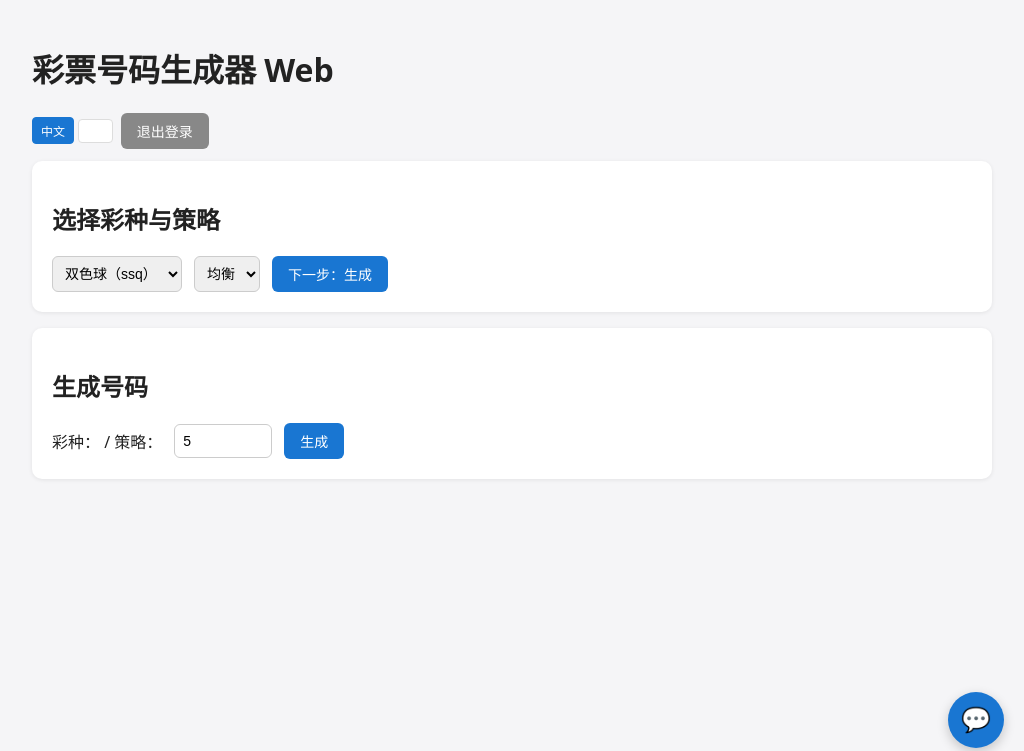
Test case: App 外壳 › 选择彩种后切到各 Tab 均正确挂载对应视图
Click the button "下一步：生成" at (330, 274), box x1=272 y1=256 x2=388 y2=292
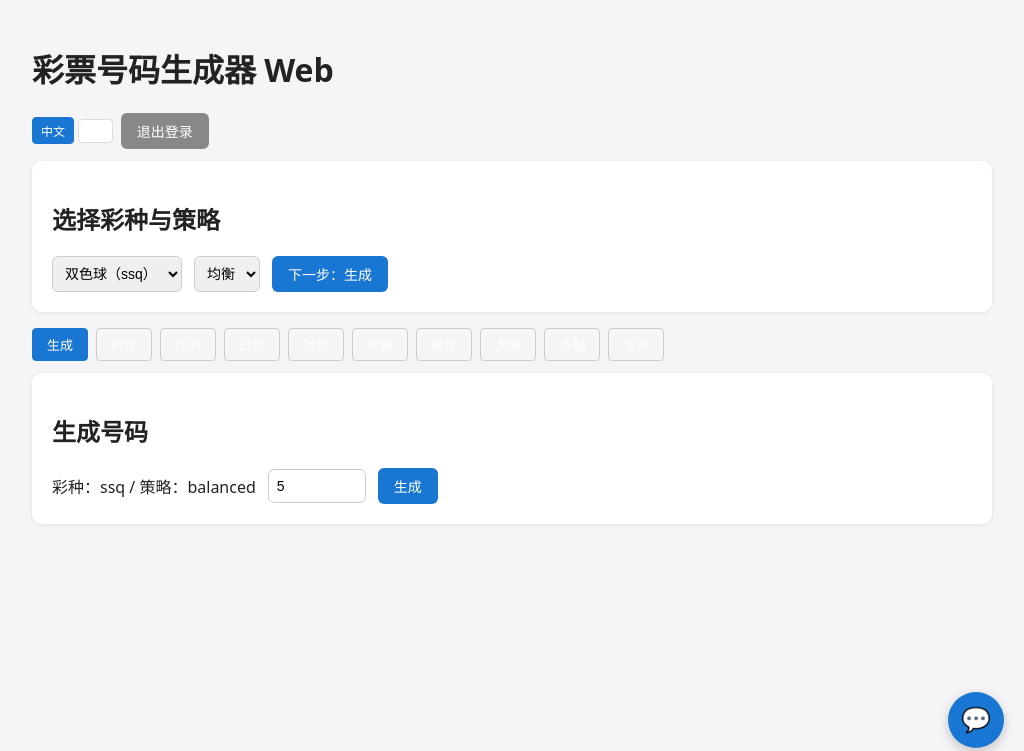
Expected: the element with class "tabs" is shown, x1=32 y1=328 x2=664 y2=361
Click the button "统计" at (124, 344), box x1=96 y1=328 x2=152 y2=361
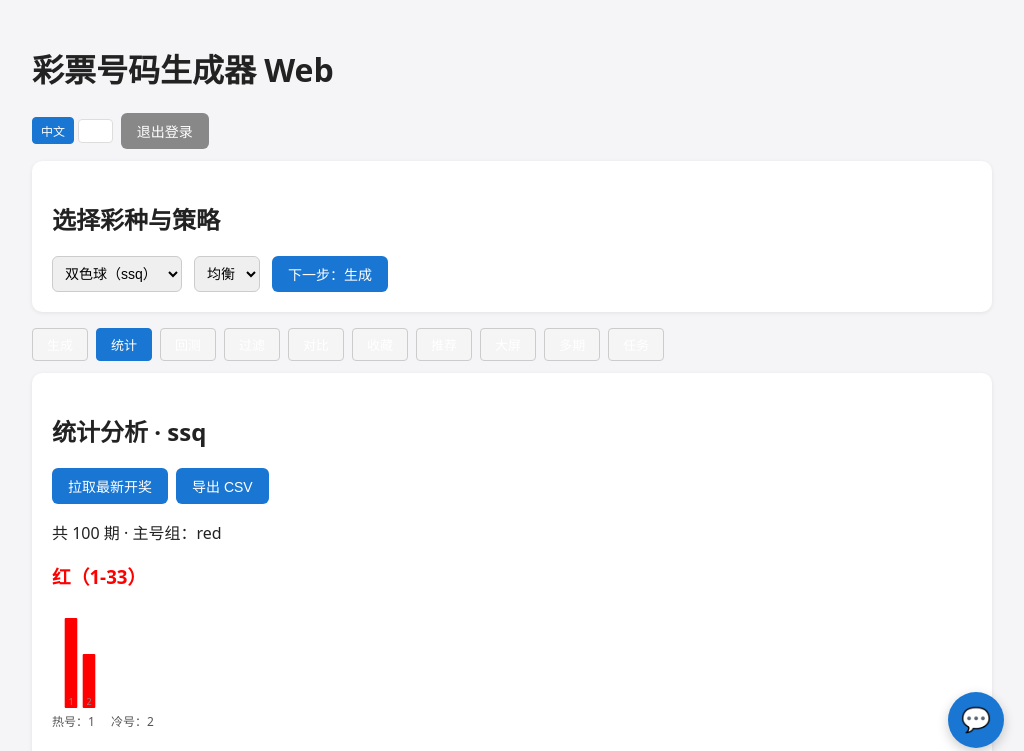
Expected: the text "统计分析" is shown, x1=52 y1=415 x2=206 y2=448
Click the button "回测" at (188, 344), box x1=160 y1=328 x2=216 y2=361
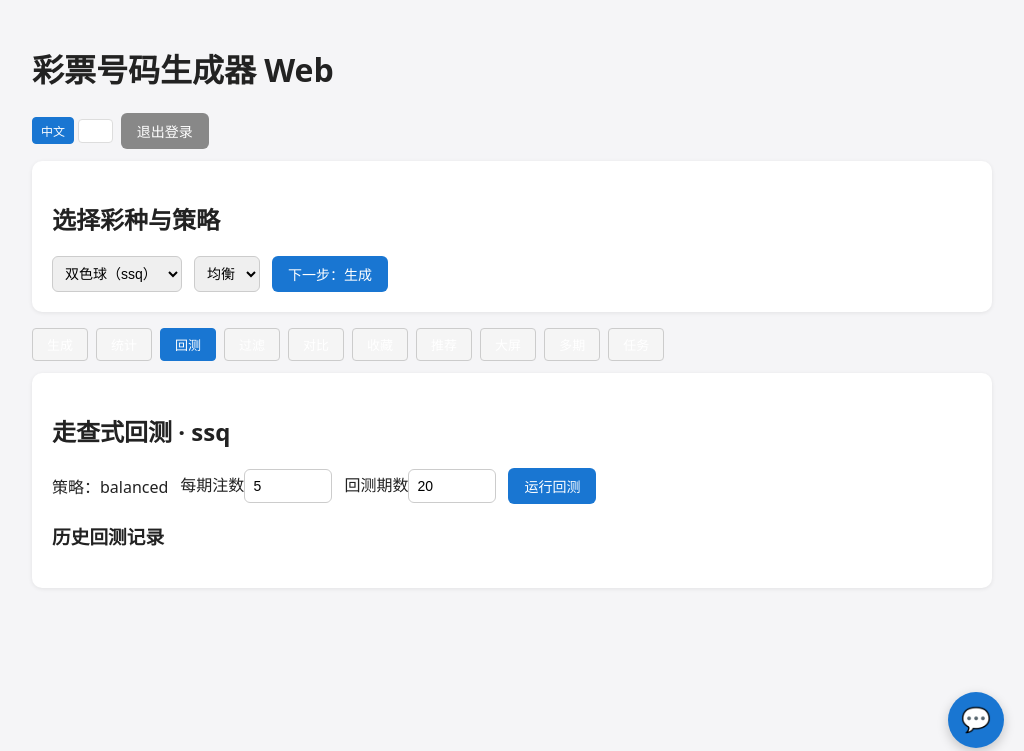
Expected: the text "走查式回测" is shown, x1=52 y1=415 x2=230 y2=448
Click the button "过滤" at (252, 344), box x1=224 y1=328 x2=280 y2=361
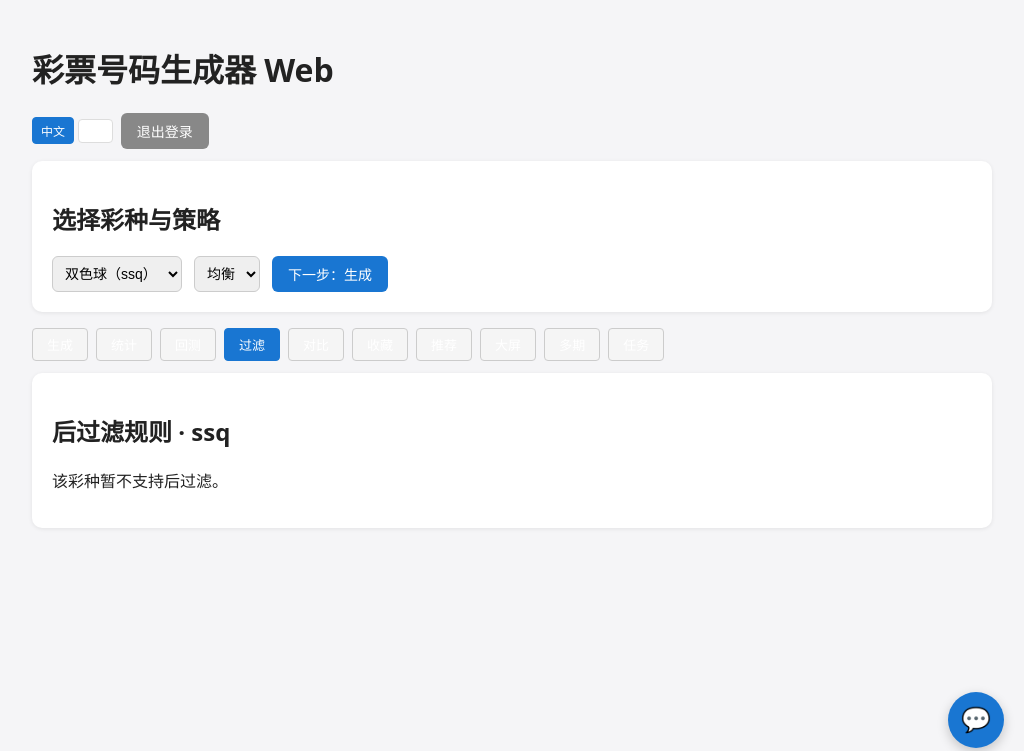
Expected: the text "后过滤规则" is shown, x1=52 y1=415 x2=230 y2=448
Click the button "对比" at (316, 344), box x1=288 y1=328 x2=344 y2=361
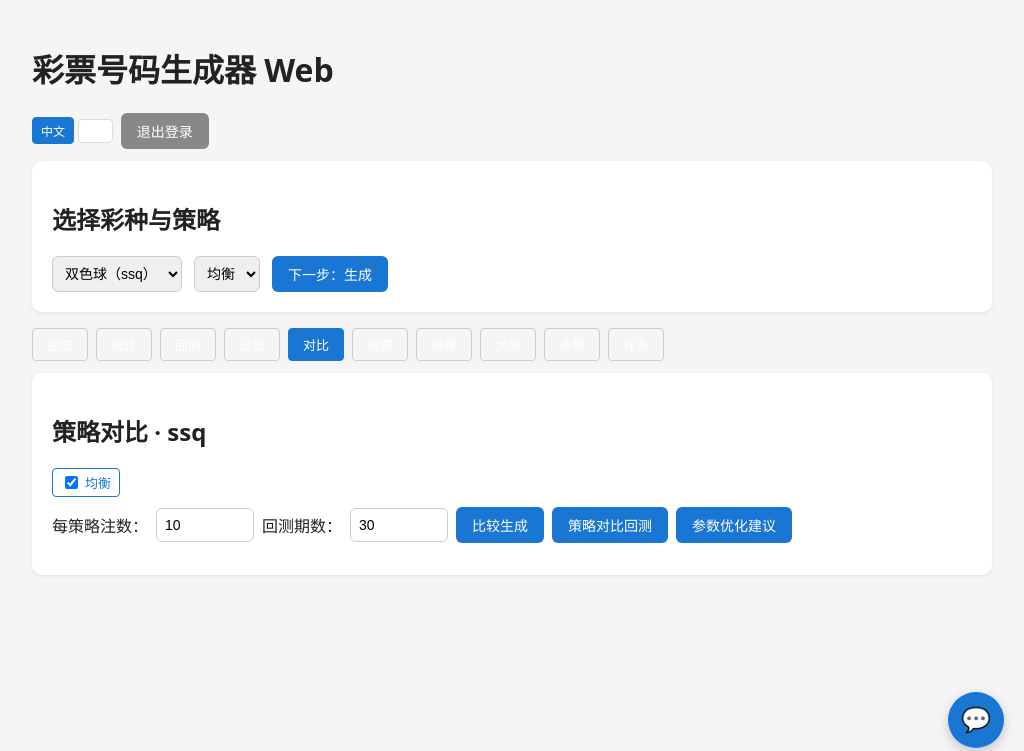
Expected: the text "策略对比" is shown, x1=52 y1=415 x2=206 y2=448
Click the button "生成" at (60, 344), box x1=32 y1=328 x2=88 y2=361
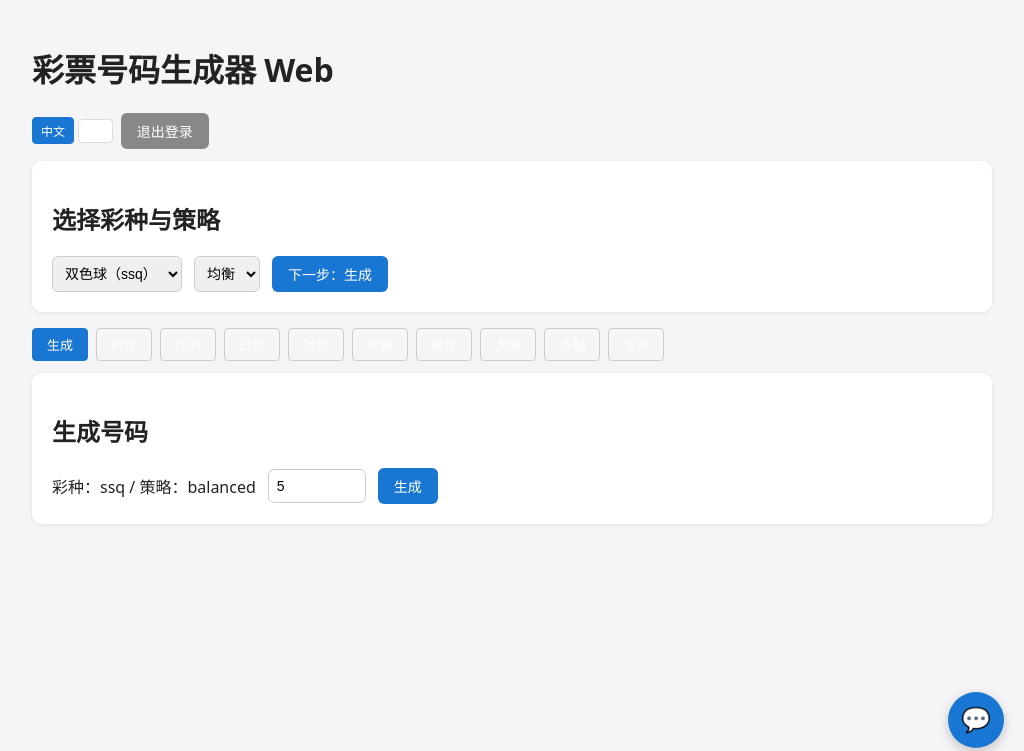
Expected: the text "生成号码" is shown, x1=52 y1=415 x2=148 y2=448
